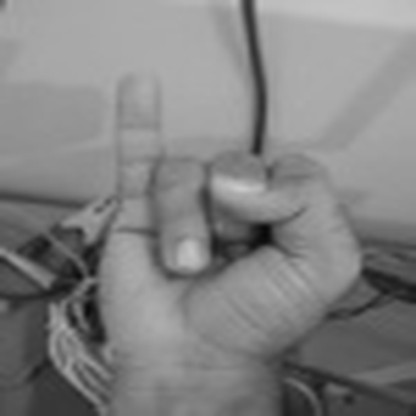i: (103, 69, 371, 377)
